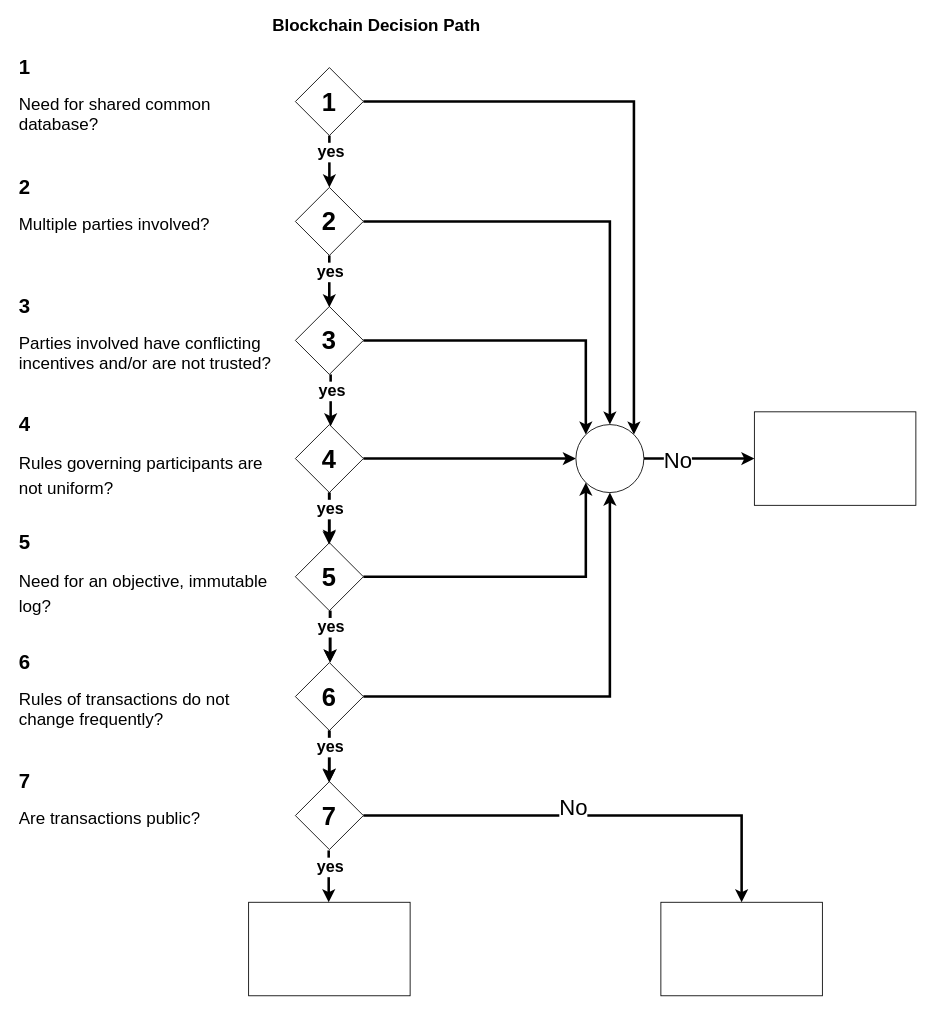
This 931x1011 diagram has some shape labels left out. Each missing label, with the box of its shape:
Blockchain is not required: (754, 411, 916, 505)
Permissioned blockchain: (660, 901, 822, 996)
Public blockchain: (248, 901, 410, 996)
